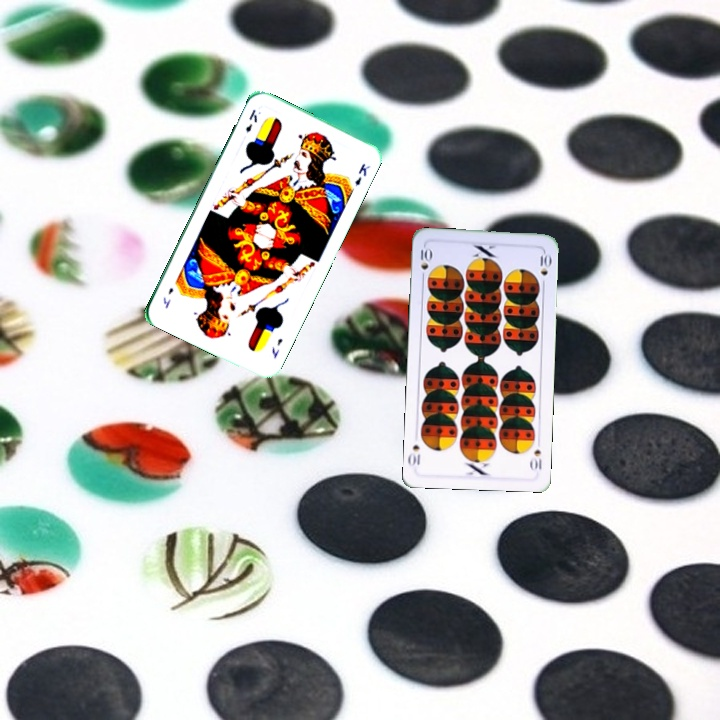EK: (241, 105, 260, 135), (268, 334, 285, 361)
S10: (416, 242, 433, 283), (527, 445, 544, 473)
